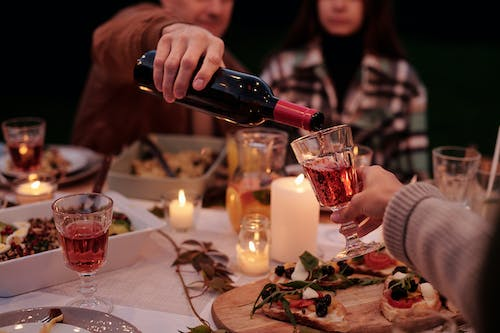alcohol: (132, 49, 326, 132), (289, 124, 385, 262), (51, 191, 115, 314), (0, 116, 47, 173)
